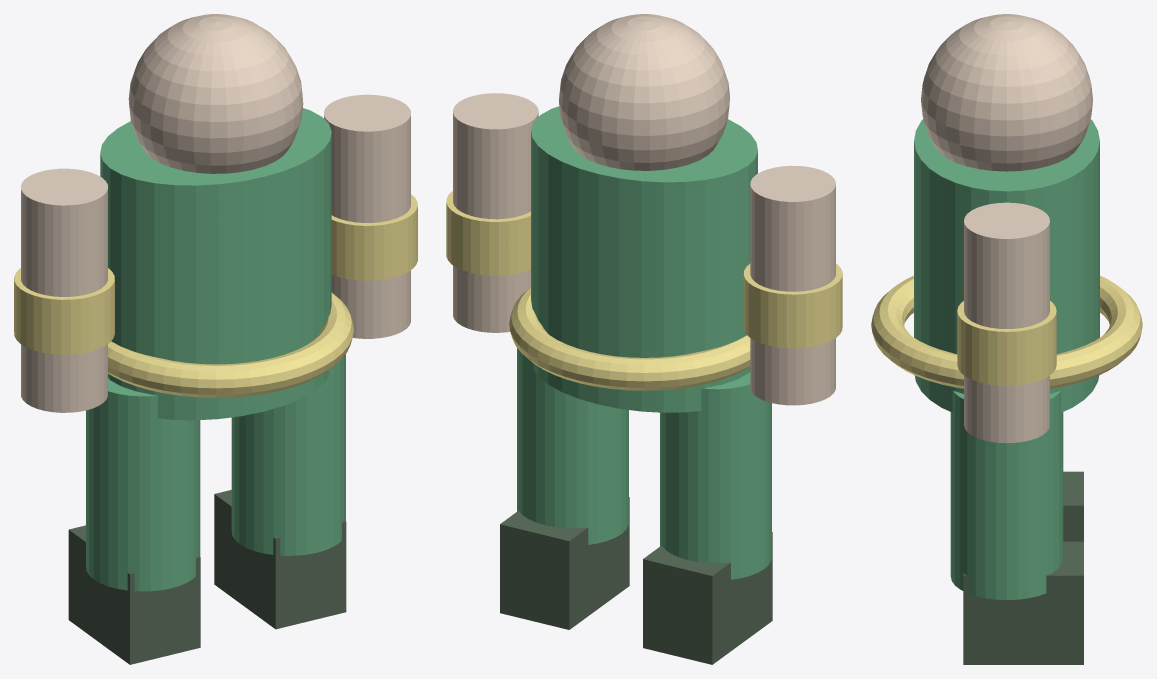
File: anacondasin.glb
The picture shows the model from 3 angles, left to right: view 1: azimuth 30°, elevation 25°; view 2: azimuth 150°, elevation 25°; view 3: azimuth 270°, elevation 25°; orthographic projection.
Visible parts, largest first — view 1: Torso, Head, Leg_L, Leg_R, Arm_L, Arm_R, Boot_R, Boot_L, SerpentBelt, ElbowWrap_L, ElbowWrap_R; view 2: Torso, Head, Leg_L, Leg_R, Arm_L, Arm_R, Boot_R, Boot_L, SerpentBelt, ElbowWrap_L, ElbowWrap_R; view 3: Torso, Head, Leg_R, Arm_R, Boot_R, SerpentBelt, ElbowWrap_R, Boot_L.
Boxes of the visible parts, x1=… form: Torso: x1=100, y1=108, x2=331, y2=420; Head: x1=128, y1=14, x2=303, y2=173; Leg_L: x1=86, y1=378, x2=200, y2=591; Leg_R: x1=231, y1=354, x2=345, y2=555; Arm_L: x1=21, y1=168, x2=107, y2=412; Arm_R: x1=324, y1=94, x2=410, y2=338; Boot_R: x1=214, y1=490, x2=346, y2=629; Boot_L: x1=68, y1=525, x2=200, y2=664; SerpentBelt: x1=108, y1=292, x2=353, y2=397; ElbowWrap_L: x1=14, y1=268, x2=114, y2=354; ElbowWrap_R: x1=331, y1=194, x2=417, y2=280; Torso: x1=531, y1=106, x2=757, y2=412; Head: x1=559, y1=14, x2=729, y2=170; Leg_L: x1=660, y1=372, x2=771, y2=579; Leg_R: x1=517, y1=348, x2=628, y2=544; Arm_L: x1=750, y1=165, x2=835, y2=405; Arm_R: x1=453, y1=93, x2=538, y2=332; Boot_R: x1=500, y1=497, x2=629, y2=629; Boot_L: x1=643, y1=532, x2=772, y2=664; SerpentBelt: x1=509, y1=287, x2=750, y2=390; ElbowWrap_L: x1=743, y1=263, x2=842, y2=348; ElbowWrap_R: x1=446, y1=191, x2=530, y2=275; Torso: x1=914, y1=119, x2=1099, y2=412; Head: x1=921, y1=14, x2=1092, y2=171; Leg_R: x1=950, y1=390, x2=1063, y2=599; Arm_R: x1=964, y1=202, x2=1049, y2=443; Boot_R: x1=963, y1=541, x2=1083, y2=664; SerpentBelt: x1=871, y1=275, x2=1142, y2=388; ElbowWrap_R: x1=957, y1=301, x2=1056, y2=385; Boot_L: x1=1063, y1=471, x2=1083, y2=541.
Bounding box in the file's own units: 1.34 × 1.97 × 0.82.
